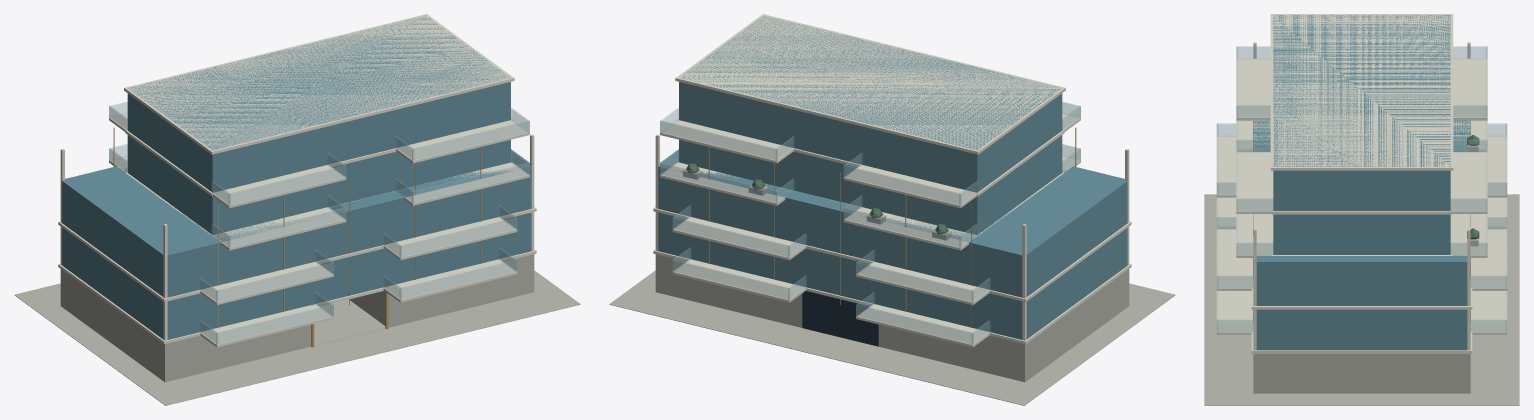
3 renders of one model, left to right at view 1: azimuth 30°, elevation 25°; view 2: azimuth 150°, elevation 25°; view 3: azimuth 270°, elevation 25°, orthographic. The views are drawn at different scales.
Parts seen in each view (by area): view 1: HK-HIGH-01-glazing, HK-HIGH-01-ivory, HK-HIGH-01-stone, HK-HIGH-01-glass, HK-HIGH-01-gold; view 2: HK-HIGH-01-glazing, HK-HIGH-01-ivory, HK-HIGH-01-stone, HK-HIGH-01-glass, HK-HIGH-01-dark, HK-HIGH-01-gold; view 3: HK-HIGH-01-glazing, HK-HIGH-01-ivory, HK-HIGH-01-stone, HK-HIGH-01-glass.
Part boxes in pixels (x1=…): HK-HIGH-01-glazing: x1=62, y1=15, x2=531, y2=339; HK-HIGH-01-ivory: x1=58, y1=14, x2=536, y2=347; HK-HIGH-01-stone: x1=14, y1=254, x2=580, y2=405; HK-HIGH-01-glass: x1=109, y1=102, x2=529, y2=344; HK-HIGH-01-gold: x1=113, y1=127, x2=481, y2=347; HK-HIGH-01-glazing: x1=658, y1=16, x2=1127, y2=339; HK-HIGH-01-ivory: x1=653, y1=14, x2=1131, y2=347; HK-HIGH-01-stone: x1=609, y1=169, x2=1175, y2=405; HK-HIGH-01-glass: x1=660, y1=102, x2=1080, y2=344; HK-HIGH-01-dark: x1=802, y1=291, x2=878, y2=346; HK-HIGH-01-gold: x1=708, y1=127, x2=1076, y2=327; HK-HIGH-01-glazing: x1=1253, y1=15, x2=1470, y2=350; HK-HIGH-01-ivory: x1=1216, y1=14, x2=1507, y2=353; HK-HIGH-01-stone: x1=1204, y1=145, x2=1519, y2=405; HK-HIGH-01-glass: x1=1216, y1=46, x2=1507, y2=332.
Size of the model in its own units: 38 by 18.5 by 24.
